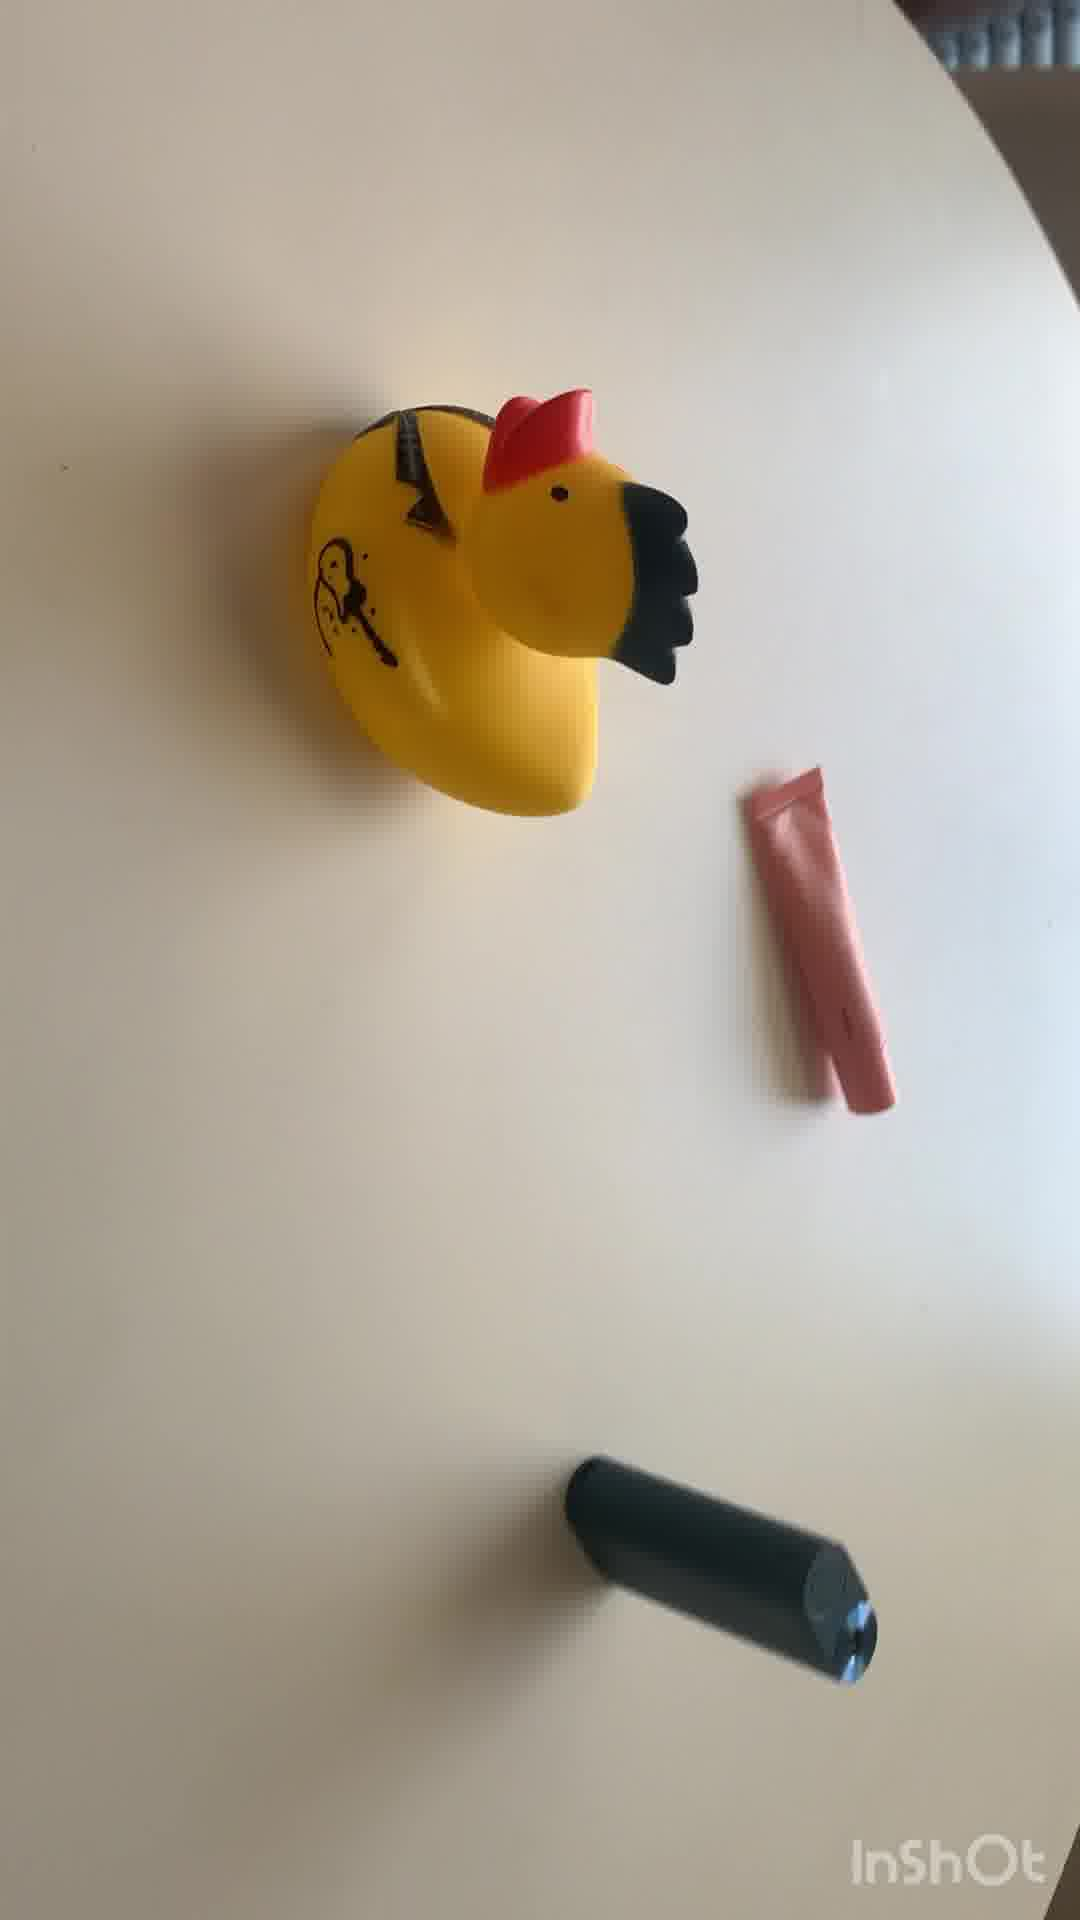duck: (285, 380, 700, 836)
glo: (564, 1466, 887, 1695)
lip balm: (733, 771, 909, 1121)
